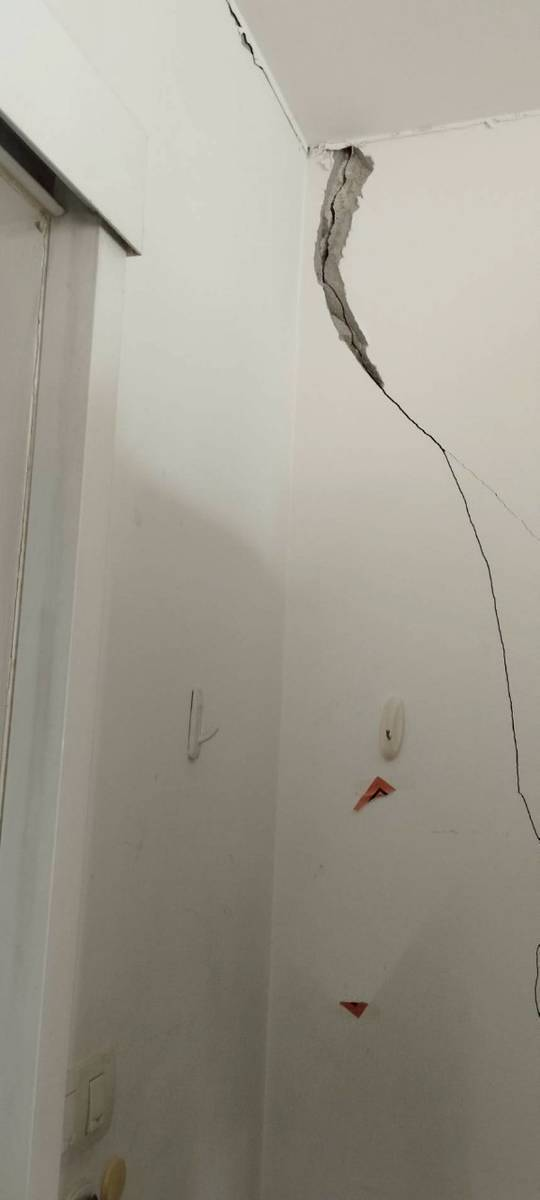Medium: (289, 132, 521, 688)
